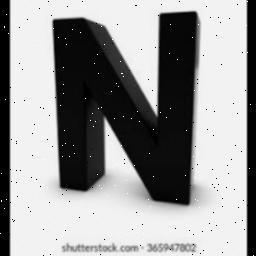n: (46, 11, 202, 209)
